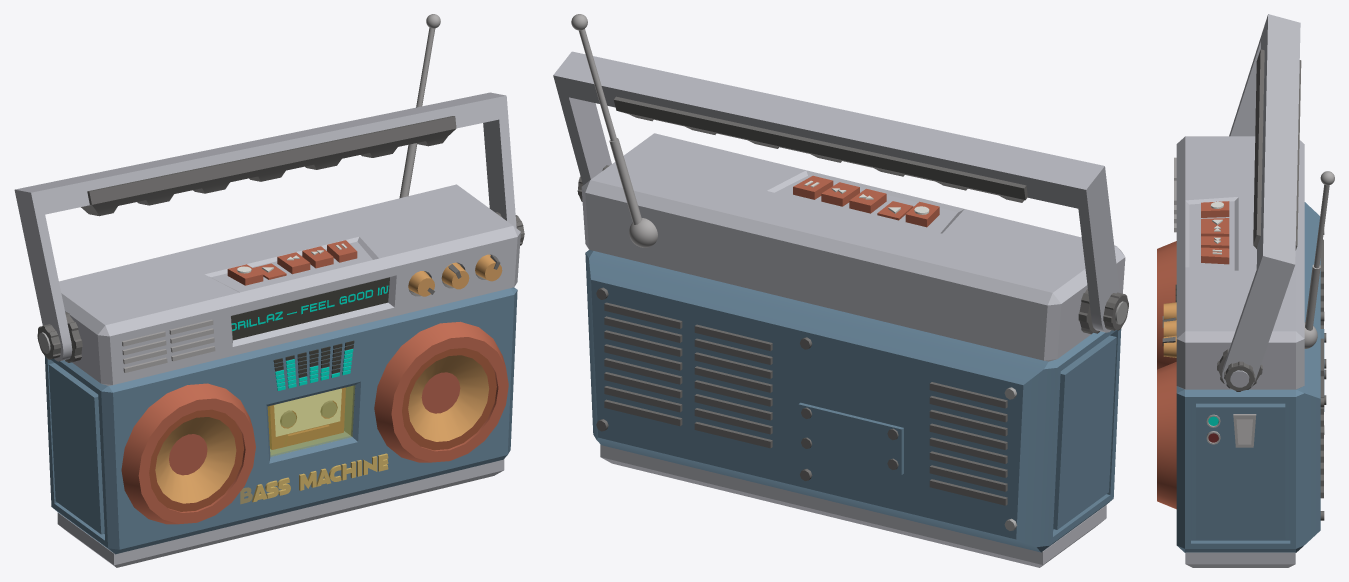
File: Boombox.fbx
The picture shows the model from 3 angles, left to right: view 1: azimuth 30°, elevation 25°; view 2: azimuth 150°, elevation 25°; view 3: azimuth 270°, elevation 25°; orthographic projection. The views are drawn at different scales.
Parts seen in each view (by area): view 1: pasted__pasted__polySurface14, pasted__pasted__polySurface20, pasted__pasted__pCube8, pasted__polySurface533, pasted__polySurface532, pasted__pasted__pCube2, pasted__pasted__polySurface13, pasted__pasted__polySurface5, pasted__pasted__polySurface35, pasted__polySurface488, pasted__pasted__pCube40, pasted__pasted__typeMesh1; view 2: pasted__pasted__polySurface20, pasted__pasted__polySurface14, pasted__pasted__pCube8, pasted__pasted__pCube2, pasted__pasted__pCube35, pasted__pasted__pCube36, pasted__pasted__pCube34, pasted__pasted__polySurface21, pasted__pasted__pCube40; view 3: pasted__pasted__polySurface20, pasted__pasted__polySurface14, pasted__pasted__pCube8, pasted__polySurface532, pasted__pasted__pCube2, pasted__polySurface533, pasted__pasted__pCube40, pasted__pasted__pCube39, pasted__pasted__pCube34, pasted__polySurface545, pasted__polySurface542, pasted__polySurface535 (+4 smaller).
Part boxes in pixels (box(x1,y1,x2,y2)): pasted__pasted__polySurface14: box(59, 184, 520, 385); pasted__pasted__polySurface20: box(45, 287, 517, 554); pasted__pasted__pCube8: box(14, 92, 524, 362); pasted__polySurface533: box(121, 383, 255, 524); pasted__polySurface532: box(374, 321, 508, 462); pasted__pasted__pCube2: box(57, 459, 504, 567); pasted__pasted__polySurface13: box(267, 385, 354, 456); pasted__pasted__polySurface5: box(267, 387, 345, 449); pasted__pasted__polySurface35: box(122, 319, 215, 372); pasted__polySurface488: box(273, 340, 354, 390); pasted__pasted__pCube40: box(399, 14, 440, 198); pasted__pasted__typeMesh1: box(231, 285, 389, 330); pasted__pasted__polySurface20: box(585, 250, 1121, 552); pasted__pasted__polySurface14: box(581, 133, 1125, 361); pasted__pasted__pCube8: box(553, 51, 1128, 334); pasted__pasted__pCube2: box(600, 444, 1106, 567); pasted__pasted__pCube35: box(694, 324, 772, 448); pasted__pasted__pCube36: box(929, 382, 1007, 505); pasted__pasted__pCube34: box(604, 302, 682, 426); pasted__pasted__polySurface21: box(798, 402, 903, 474); pasted__pasted__pCube40: box(571, 14, 657, 247); pasted__pasted__polySurface20: box(1176, 202, 1320, 552); pasted__pasted__polySurface14: box(1176, 136, 1304, 389); pasted__pasted__pCube8: box(1217, 14, 1301, 391); pasted__polySurface532: box(1157, 362, 1176, 509); pasted__pasted__pCube2: box(1185, 552, 1295, 567); pasted__polySurface533: box(1157, 241, 1176, 369); pasted__pasted__pCube40: box(1304, 171, 1334, 348); pasted__pasted__pCube39: box(1233, 414, 1256, 447); pasted__pasted__pCube34: box(1320, 376, 1323, 498); pasted__polySurface545: box(1201, 247, 1229, 264); pasted__polySurface542: box(1201, 201, 1229, 217); pasted__polySurface535: box(1201, 236, 1229, 248).
Size of the model in its own units: 4.36 by 3.58 by 1.44.
